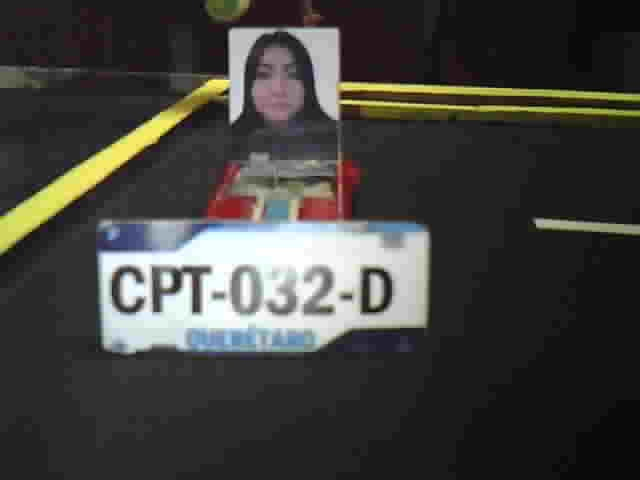PLACA: (94, 215, 432, 356)
ROSTRO: (229, 31, 338, 156)
